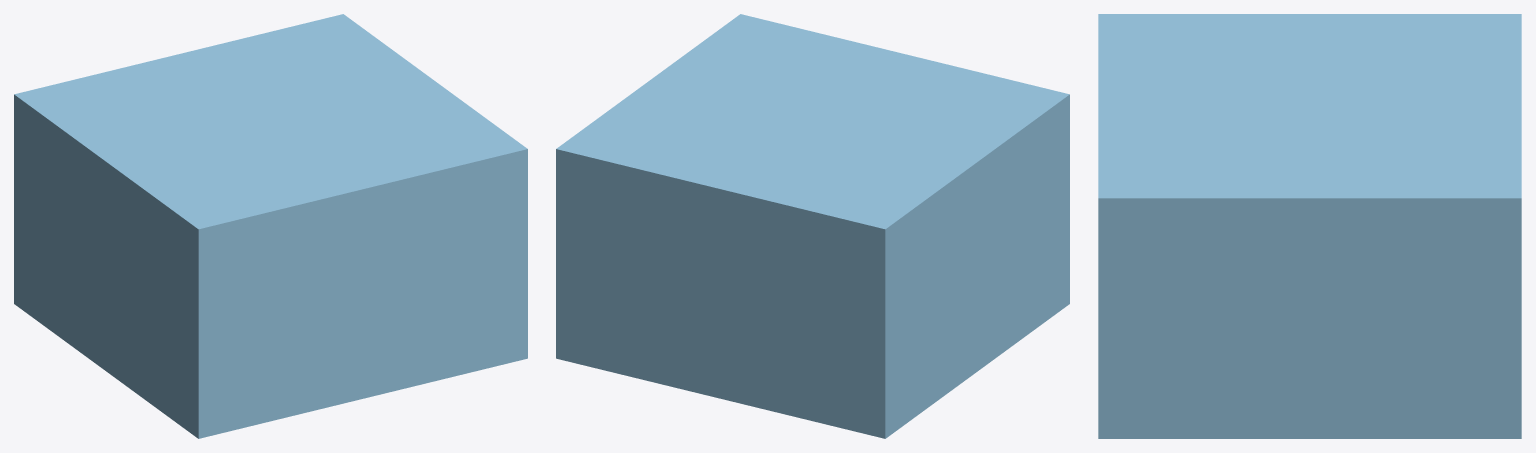
The picture shows the model from 3 angles, left to right: view 1: azimuth 30°, elevation 25°; view 2: azimuth 150°, elevation 25°; view 3: azimuth 270°, elevation 25°; orthographic projection. The views are drawn at different scales.
Visible parts, largest first — view 1: ID2; view 2: ID2; view 3: ID2.
Boxes of the visible parts, x1=… form: ID2: x1=14, y1=14, x2=527, y2=438; ID2: x1=556, y1=14, x2=1069, y2=438; ID2: x1=1098, y1=14, x2=1521, y2=438.
Size of the model in its own units: 0.0639 by 0.062 by 0.0389.
